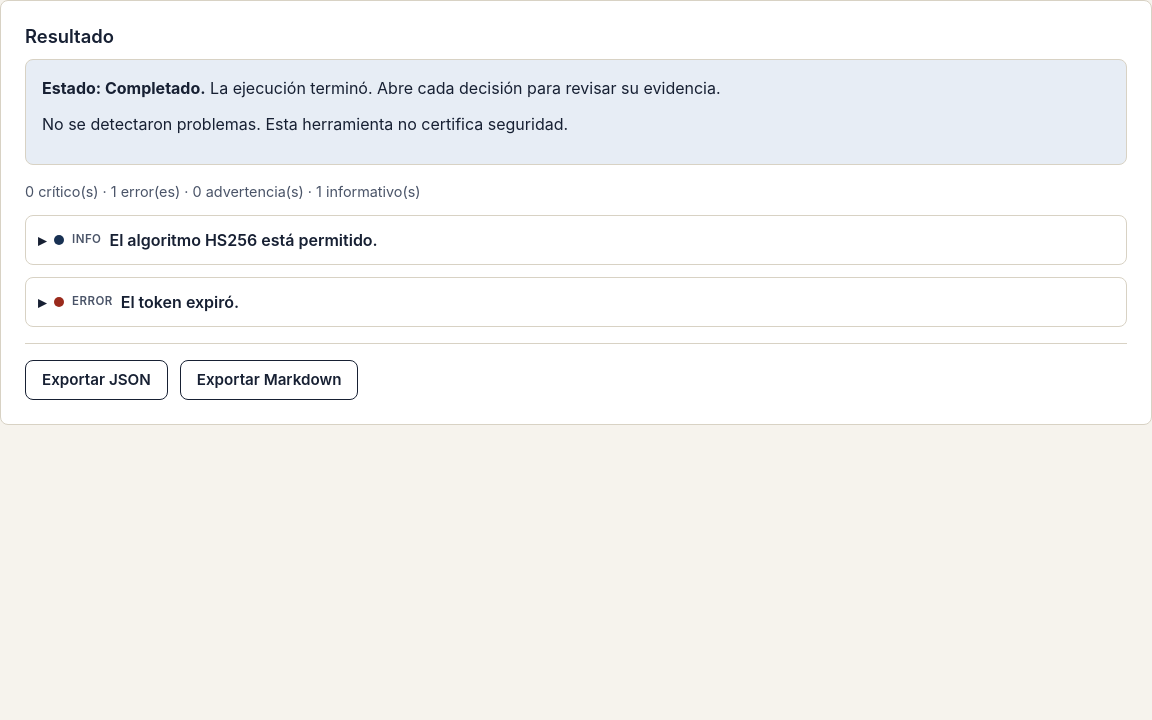
Test: ResultPanel › muestra el resumen, el conteo de severidades y permite abrir un hallazgo
Expected: the text "Estado: Completado." is shown, [42,78,206,98]
Expected: the text "1 error(es)" is shown, [25,183,421,200]
What coordinates should you click on to do the following:
click the text "El token expiró."
I would click on:
 (180, 302)
Its box is [121,290,239,314].
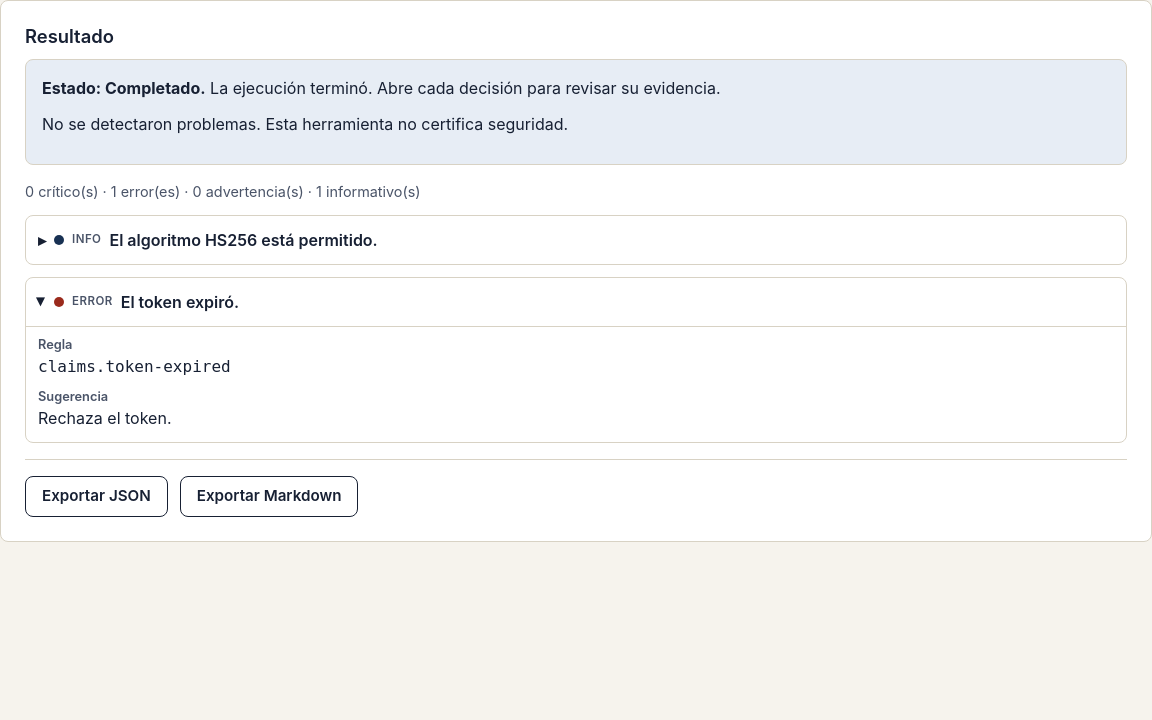
Now the text "Rechaza el token." is shown, box [38,408,172,428]
